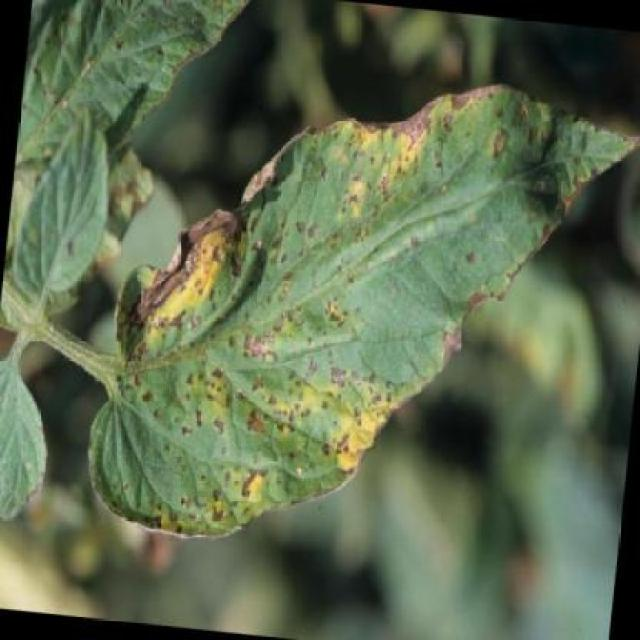Tomato leaf bacterial spot: (97, 48, 638, 590)
